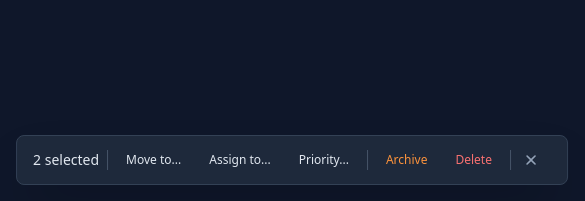
Test: BulkActionToolbar › shows priority dropdown
Click the button "Priority...": (324, 160) left=289, top=146, right=359, bottom=174
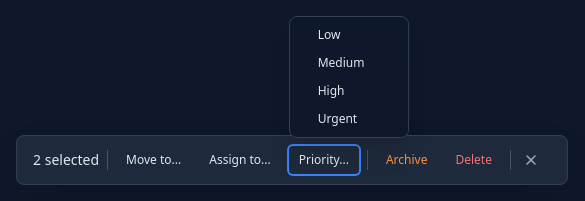
Expected: the menu item "low" is shown, left=290, top=21, right=408, bottom=49
Expected: the menu item "medium" is shown, left=290, top=49, right=408, bottom=77
Expected: the menu item "high" is shown, left=290, top=77, right=408, bottom=105
